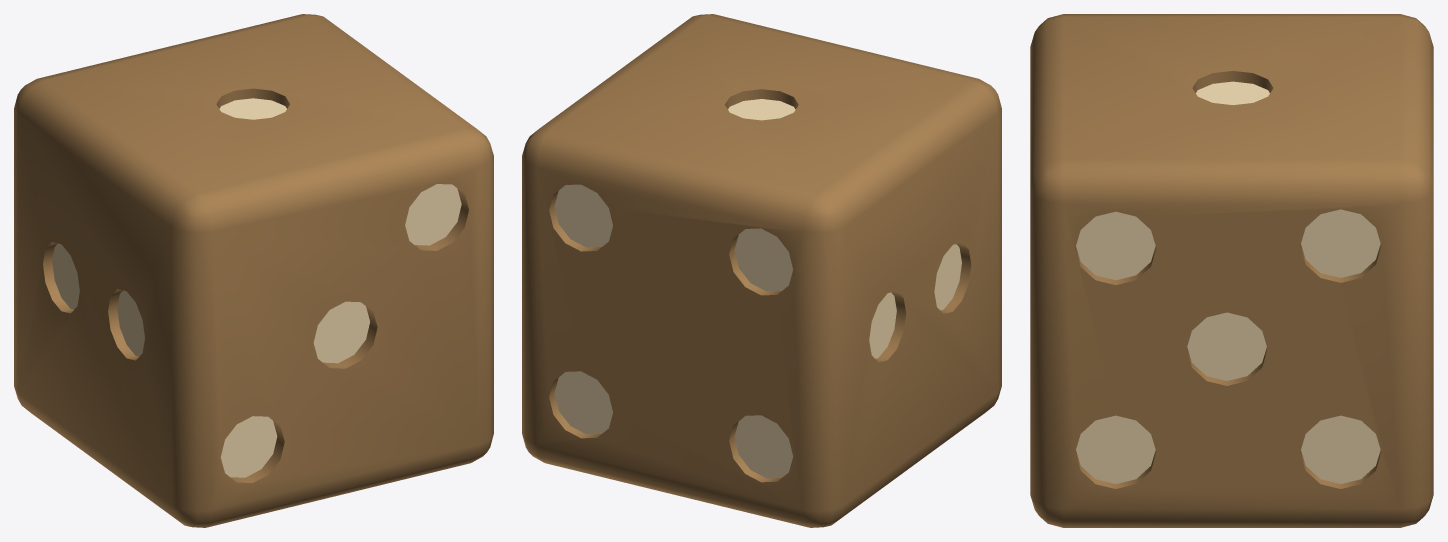
File: Dice_2.fbx
3 views of the same model, side by side, from view 1: azimuth 30°, elevation 25°; view 2: azimuth 150°, elevation 25°; view 3: azimuth 270°, elevation 25° (orthographic). The views are drawn at different scales.
Visible parts, largest first — view 1: Dice_2; view 2: Dice_2; view 3: Dice_2.
Boxes of the visible parts, x1=… form: Dice_2: x1=14, y1=14, x2=493, y2=527; Dice_2: x1=522, y1=14, x2=1001, y2=527; Dice_2: x1=1030, y1=14, x2=1433, y2=527.
Size of the model in its own units: 0.0861 by 0.0861 by 0.0861.
